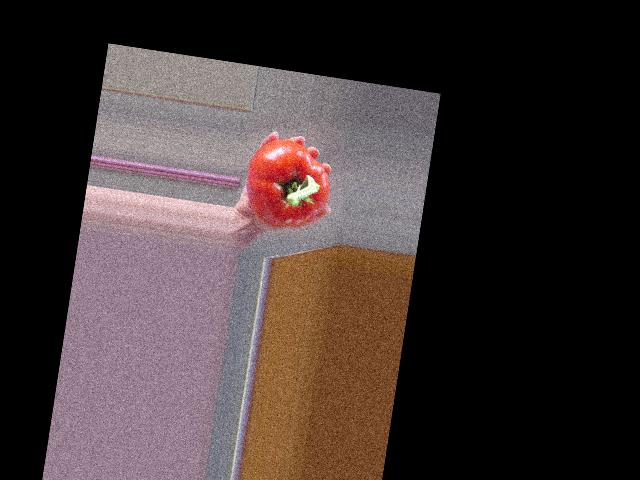tomato: (240, 134, 336, 233)
